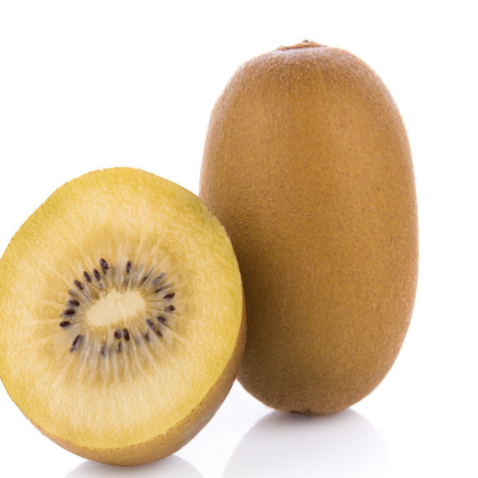kiwi: (162, 25, 461, 459)
